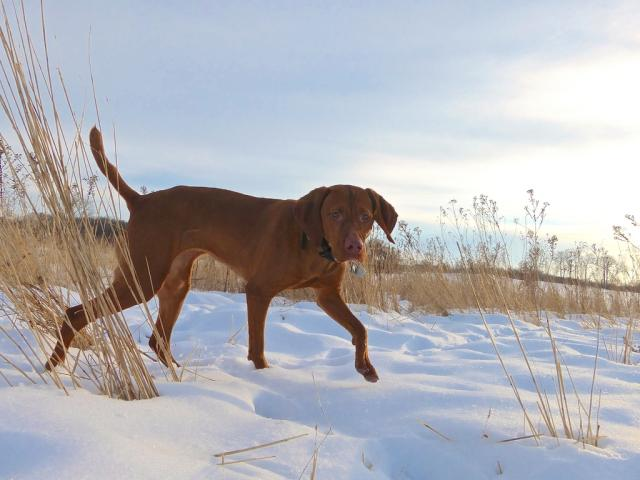Dog: (44, 123, 400, 384)
